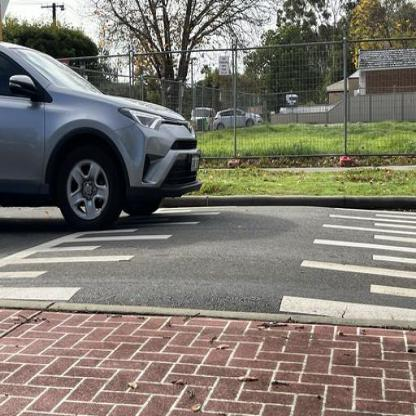Tire: (55, 142, 125, 232)
